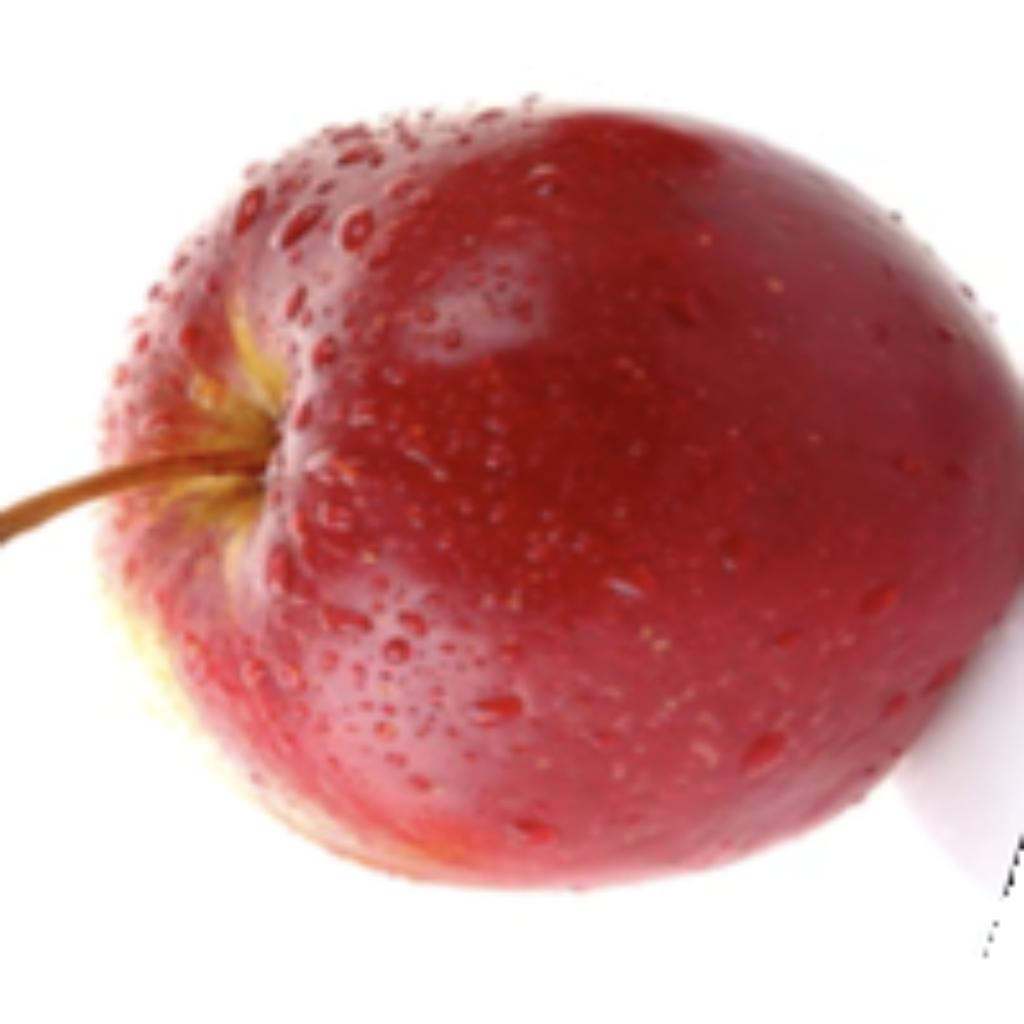apple: (0, 87, 1019, 901)
